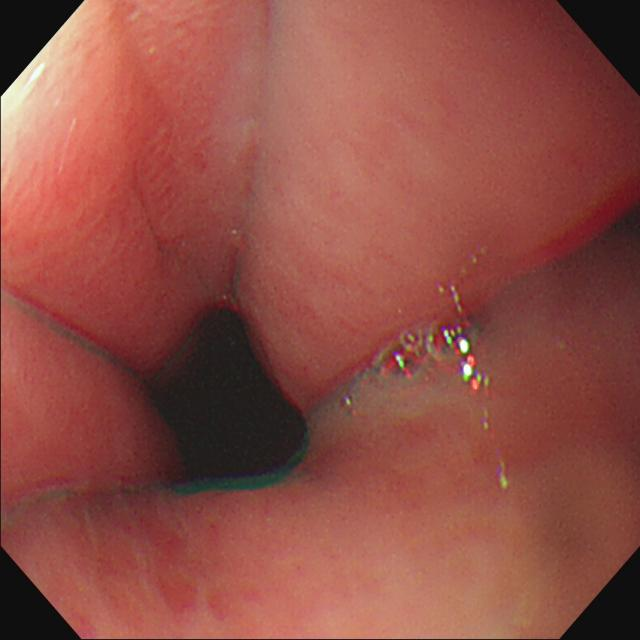A: (80, 72, 194, 282)
E: (152, 306, 309, 482)
T: (376, 328, 445, 377)
U: (445, 326, 491, 394)
